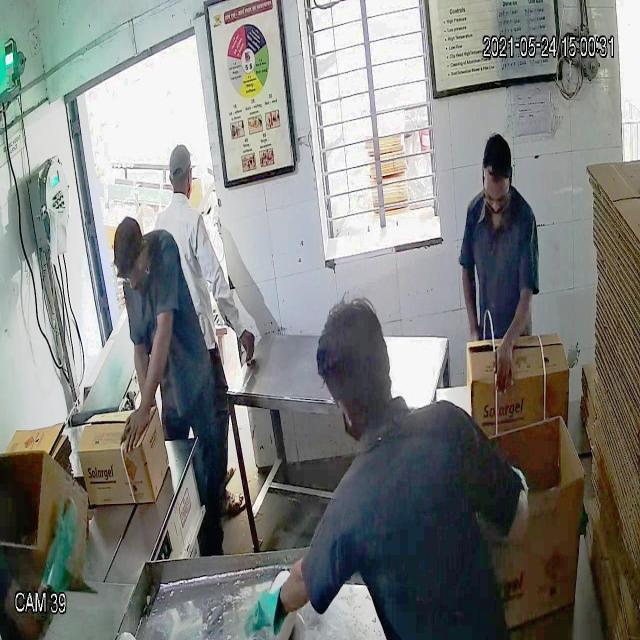glasses: (478, 172, 512, 214)
